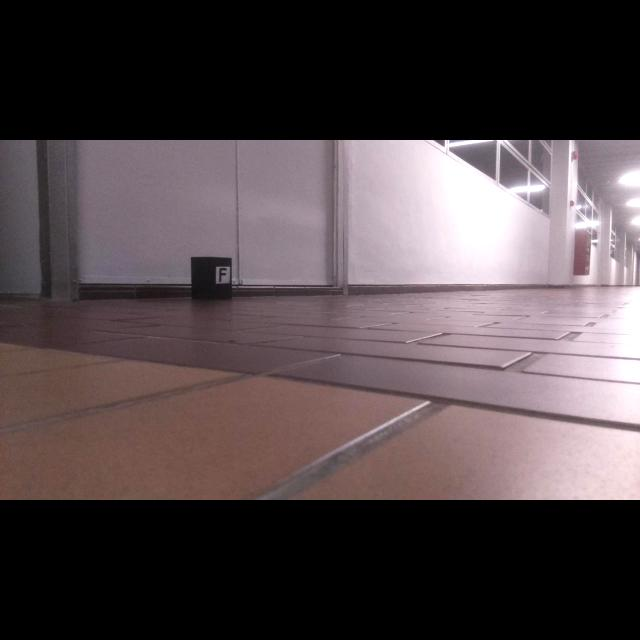F: (219, 268, 227, 282)
